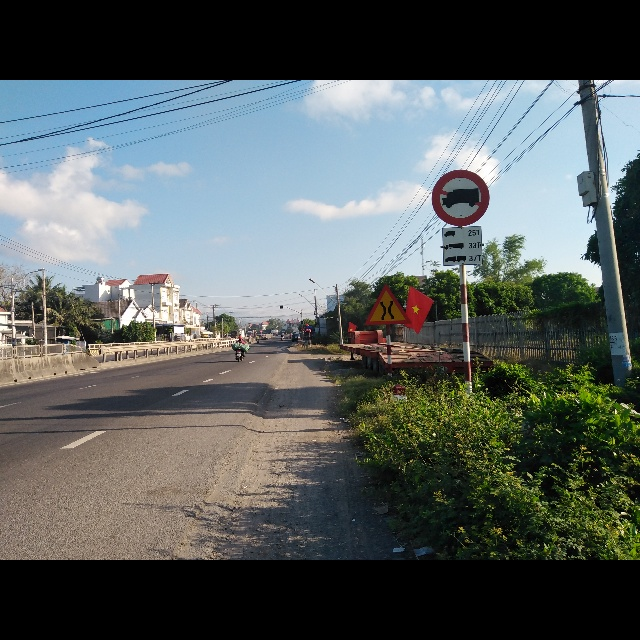Cấm xe tải: (430, 168, 490, 226)
Cầu hẹp: (363, 281, 410, 327)
